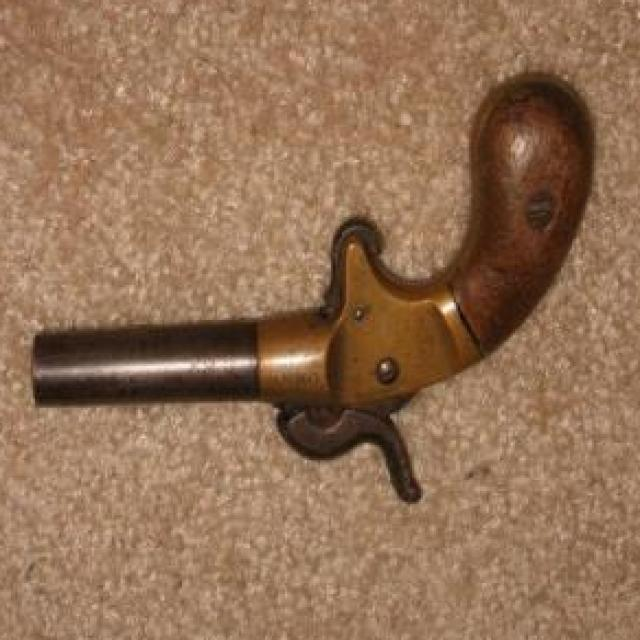pistol: (26, 77, 591, 506)
